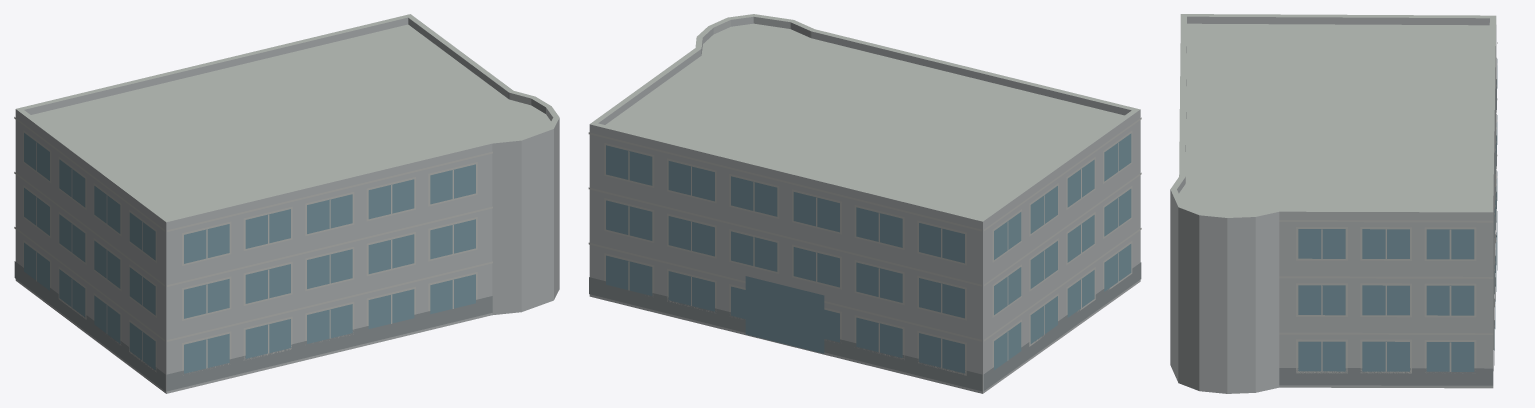
Rendered from public-e3a93a79-cbf0-442e-b018-5332073802d7.glb.
The picture shows the model from 3 angles, left to right: view 1: azimuth 30°, elevation 25°; view 2: azimuth 150°, elevation 25°; view 3: azimuth 270°, elevation 25°; orthographic projection. The views are drawn at different scales.
Visible parts, largest first — view 1: public-e3a93a79-cbf0-442e-b018-5332073802d7; view 2: public-e3a93a79-cbf0-442e-b018-5332073802d7; view 3: public-e3a93a79-cbf0-442e-b018-5332073802d7.
Part boxes in pixels (box(x1,y1,x2,y2)): public-e3a93a79-cbf0-442e-b018-5332073802d7: box(14, 14, 559, 393); public-e3a93a79-cbf0-442e-b018-5332073802d7: box(588, 14, 1141, 393); public-e3a93a79-cbf0-442e-b018-5332073802d7: box(1170, 14, 1497, 393).
Size of the model in its own units: 22.83 by 9.15 by 16.51.
